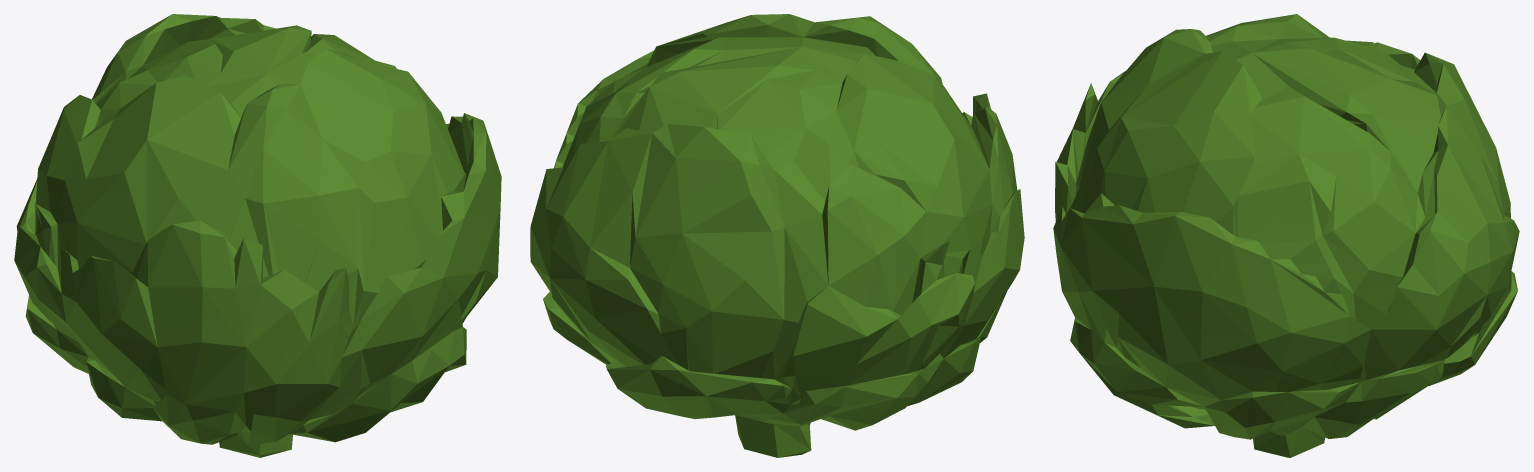
Rendered from Cabbage_lowpoly.obj.
3 views of the same model, side by side, from view 1: azimuth 30°, elevation 25°; view 2: azimuth 150°, elevation 25°; view 3: azimuth 270°, elevation 25° (orthographic).
Parts seen in each view (by area): view 1: Mesh1.0; view 2: Mesh1.0; view 3: Mesh1.0.
Part boxes in pixels (x1,y1,x2,y2): Mesh1.0: [14, 14, 501, 457]; Mesh1.0: [530, 14, 1024, 457]; Mesh1.0: [1053, 14, 1519, 457].
Size of the model in its own units: 1.09 by 0.9985 by 1.04.
